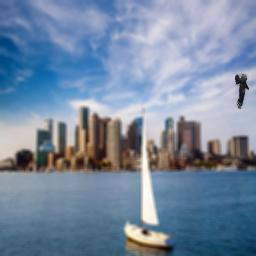Crow: (235, 73, 249, 109)
